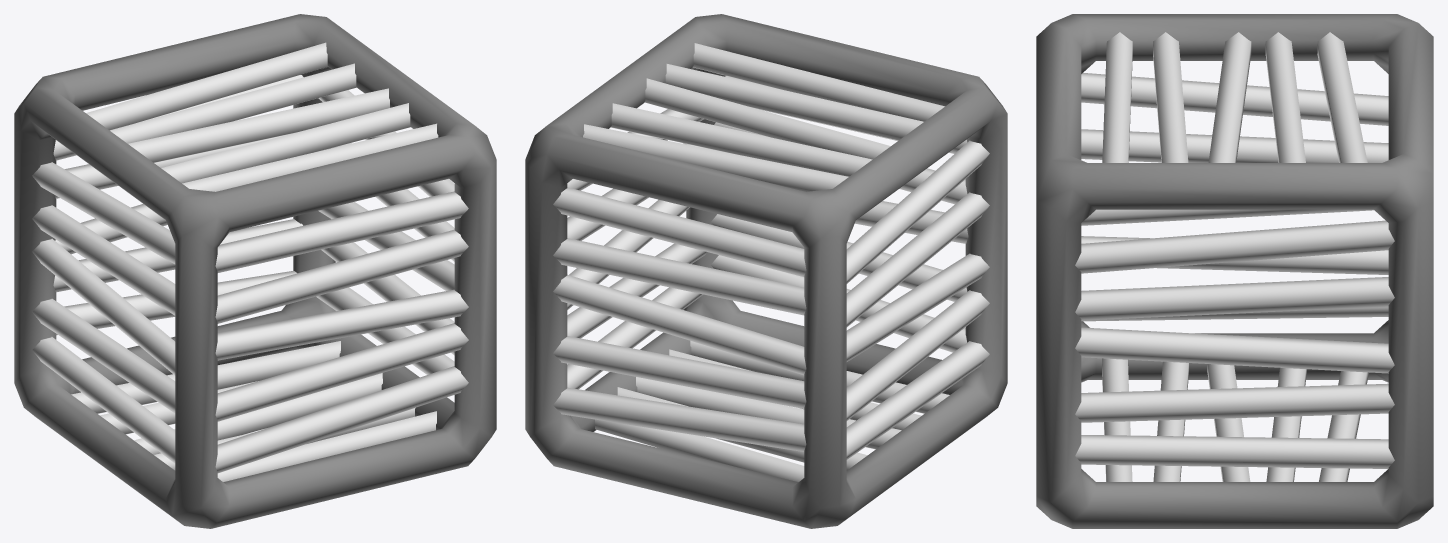
File: block_metal_1_separate.fbx
The picture shows the model from 3 angles, left to right: view 1: azimuth 30°, elevation 25°; view 2: azimuth 150°, elevation 25°; view 3: azimuth 270°, elevation 25°; orthographic projection. The views are drawn at different scales.
Parts seen in each view (by area): view 1: block_metal_1_separate, block_metal_1.001_separate; view 2: block_metal_1_separate, block_metal_1.001_separate; view 3: block_metal_1_separate, block_metal_1.001_separate.
Boxes of the visible parts, bbox=[...] form: block_metal_1_separate: bbox=[14, 14, 496, 528]; block_metal_1.001_separate: bbox=[316, 90, 454, 374]; block_metal_1_separate: bbox=[525, 14, 1007, 528]; block_metal_1.001_separate: bbox=[567, 109, 708, 389]; block_metal_1_separate: bbox=[1036, 14, 1433, 528]; block_metal_1.001_separate: bbox=[1075, 220, 1394, 468].
Size of the model in its own units: 200 by 200 by 200.
